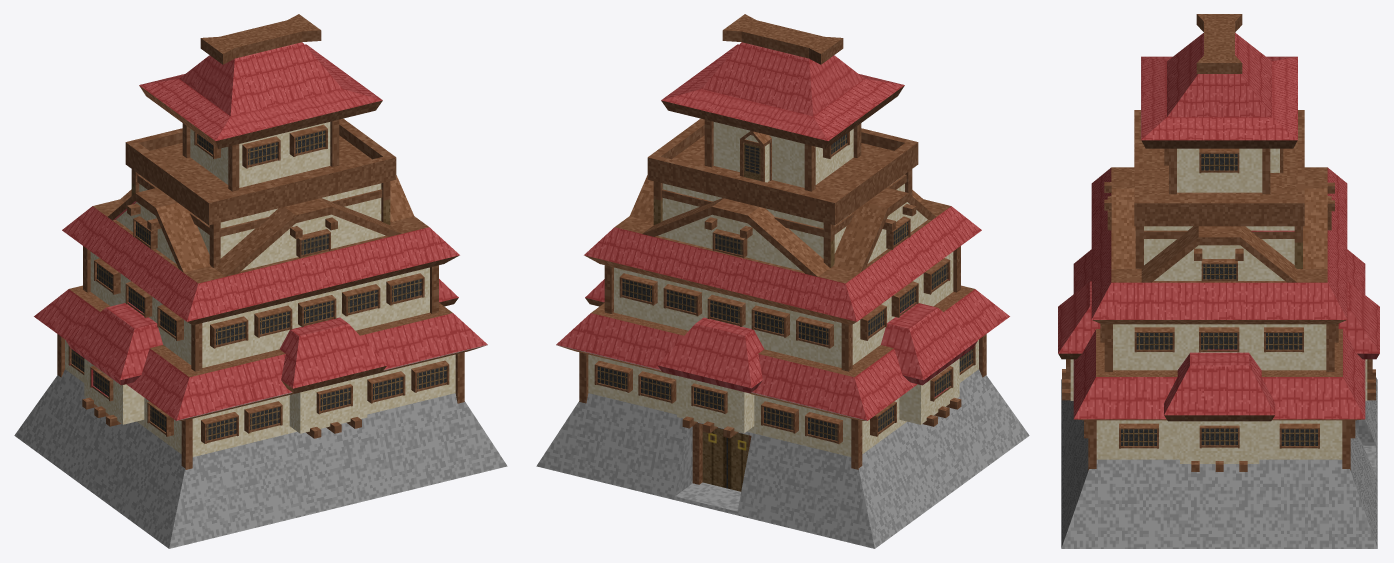
File: CastilloJapon.fbx
The picture shows the model from 3 angles, left to right: view 1: azimuth 30°, elevation 25°; view 2: azimuth 150°, elevation 25°; view 3: azimuth 270°, elevation 25°; orthographic projection. The views are drawn at different scales.
Parts seen in each view (by area): view 1: Castillo; view 2: Castillo; view 3: Castillo.
Boxes of the visible parts, bbox=[...] form: Castillo: bbox=[14, 14, 507, 548]; Castillo: bbox=[536, 14, 1029, 548]; Castillo: bbox=[1058, 14, 1379, 548].
Size of the model in its own units: 7.51 by 6.02 by 8.79.
1 material, 1 textured.
